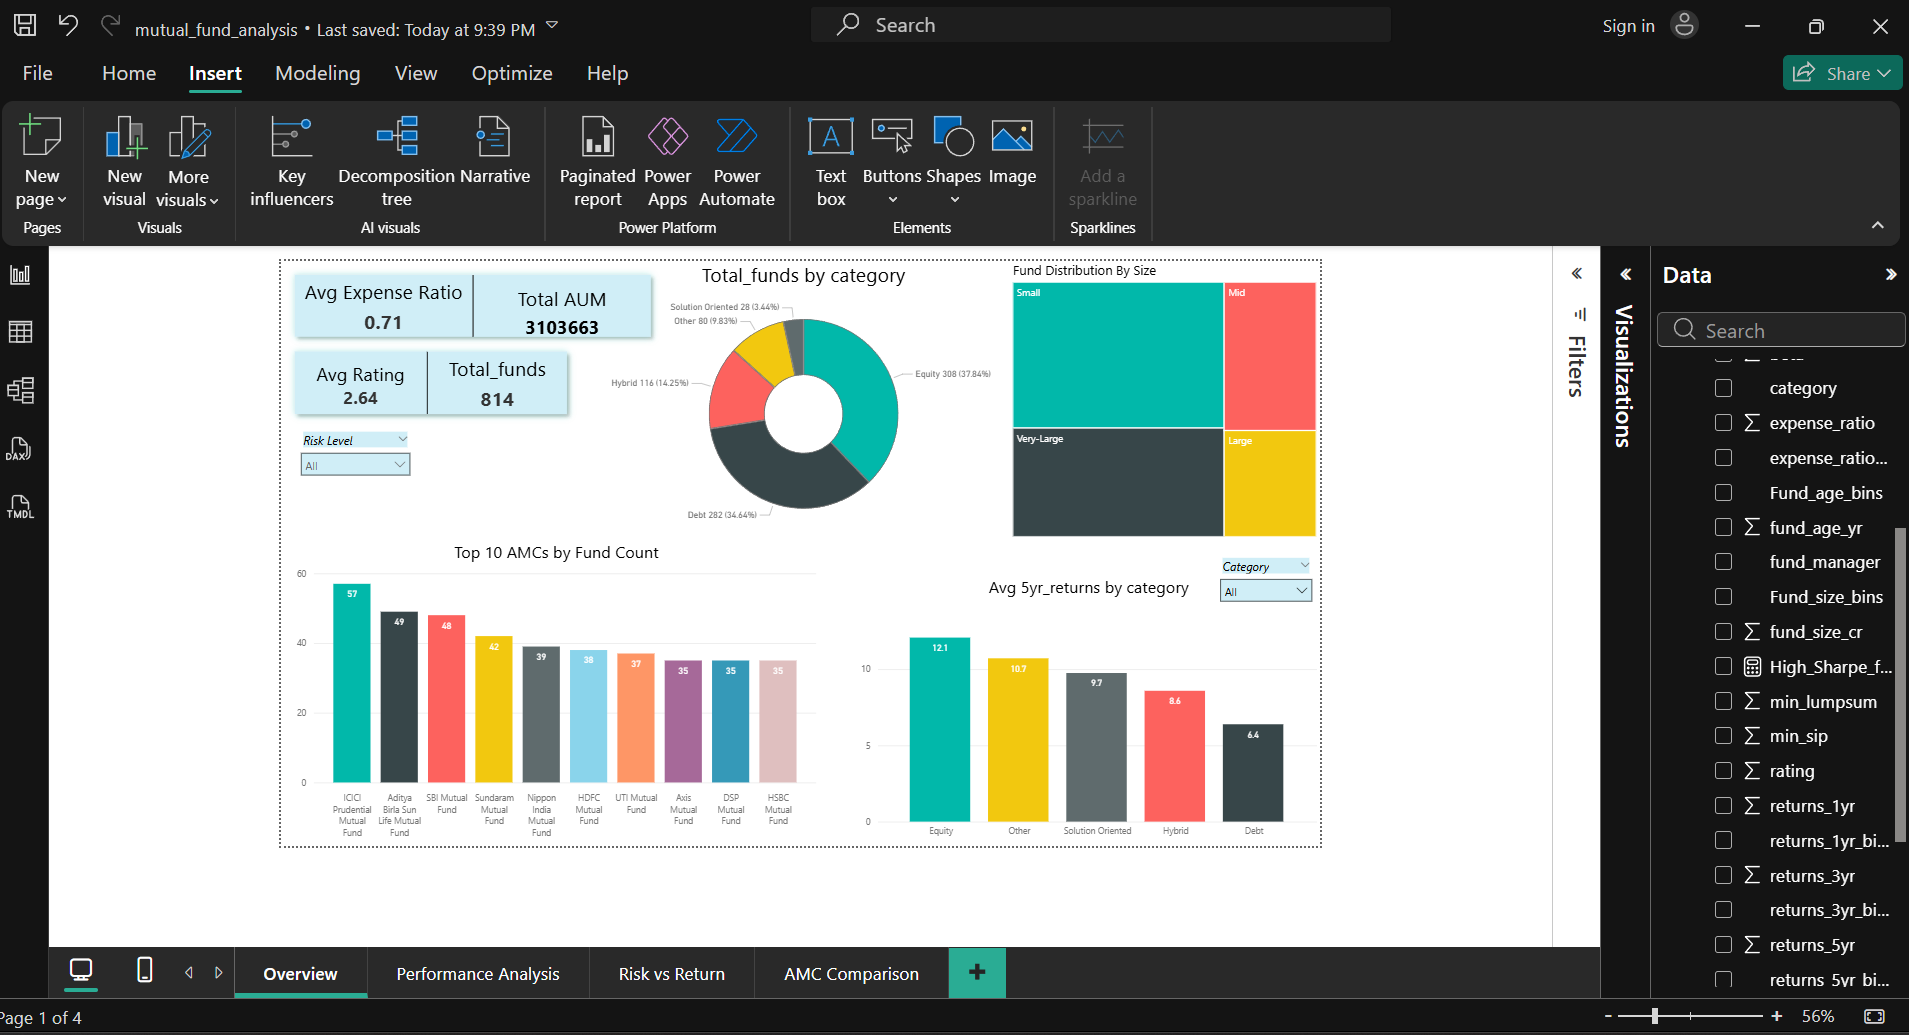

This screenshot's page, from the dashboard's own definition file:
{"tool":"powerbi","page":{"name":"Overview","canvas":[1280,720],"ordinal":0},"visuals":[{"type":"cardVisual","fields":{"Data":["comprehensive_mutual_funds_data.Total_funds"]},"box":[0,94.1,369.4,111.9],"z":0},{"type":"cardVisual","fields":{"Data":["comprehensive_mutual_funds_data.Avg Expense Ratio"]},"box":[0,0,472.4,110.1],"z":2000},{"type":"donutChart","fields":{"Y":["comprehensive_mutual_funds_data.Total_funds"],"Category":["comprehensive_mutual_funds_data.category"]},"box":[323.2,0,641.1,344.5],"z":4000},{"type":"columnChart","title":"Top 10 AMCs by Fund Count","fields":{"Category":["comprehensive_mutual_funds_data.amc_name"],"Y":["comprehensive_mutual_funds_data.Total_funds"],"Series":["comprehensive_mutual_funds_data.amc_name"]},"box":[14.2,344.5,650,374.7],"z":5000},{"type":"columnChart","title":"Avg 5yr_returns by category","fields":{"Y":["comprehensive_mutual_funds_data.Avg 5yr_returns"],"Category":["comprehensive_mutual_funds_data.category"],"Series":["comprehensive_mutual_funds_data.category"]},"box":[708.6,387.2,571.8,332.1],"z":6000},{"type":"treemap","title":"Fund Distribution By Size","fields":{"Values":["comprehensive_mutual_funds_data.Total_funds"],"Group":["comprehensive_mutual_funds_data.Fund_size_bins"]},"box":[896.8,0,383.6,344.5],"z":7000},{"type":"slicer","fields":{"Values":["comprehensive_mutual_funds_data.category"]},"box":[1146.4,360.4,133.3,83.3],"z":8000},{"type":"slicer","fields":{"Values":["comprehensive_mutual_funds_data.risk_level"]},"box":[14.2,206,154.5,60.4],"z":9000}]}

Visuals, with their boxes on the page's 1280x720 design canvas (x1, y1, x2, y2). These are canvas units, not pixel positions in the 1909x1035 screenshot, which may show the page scaled, cropped or inside an application window:
cardVisual - comprehensive_mutual_funds_data.Total_funds: locate(0, 94, 369, 206)
cardVisual - comprehensive_mutual_funds_data.Avg Expense Ratio: locate(0, 0, 472, 110)
donutChart - comprehensive_mutual_funds_data.Total_funds x comprehensive_mutual_funds_data.category: locate(323, 0, 964, 344)
"Top 10 AMCs by Fund Count" columnChart: locate(14, 344, 664, 719)
"Avg 5yr_returns by category" columnChart: locate(709, 387, 1280, 719)
"Fund Distribution By Size" treemap: locate(897, 0, 1280, 344)
slicer - comprehensive_mutual_funds_data.category: locate(1146, 360, 1280, 444)
slicer - comprehensive_mutual_funds_data.risk_level: locate(14, 206, 169, 266)
